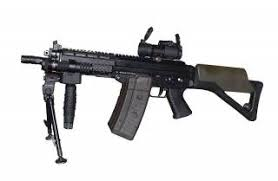gun: (19, 24, 264, 166)
